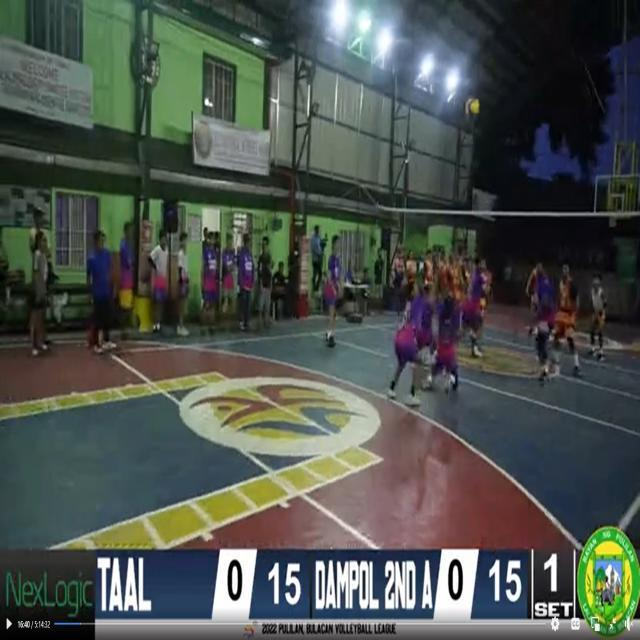volleyball: (466, 100, 480, 116)
